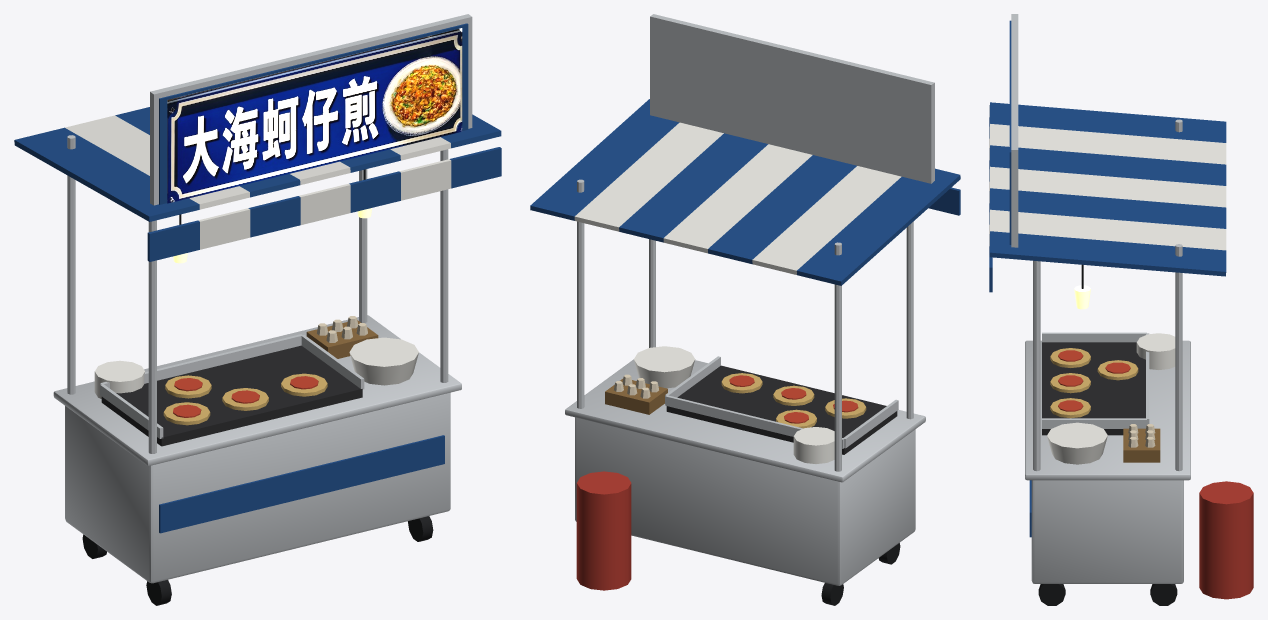
The model's file is night_market_stall_oyster.glb.
3 views of the same model, side by side, from view 1: azimuth 30°, elevation 25°; view 2: azimuth 150°, elevation 25°; view 3: azimuth 270°, elevation 25° (orthographic). The views are drawn at different scales.
Parts seen in each view (by area): view 1: body, sign; view 2: body; view 3: body.
Boxes of the visible parts, x1,y1,x2,y2 form: body: (14,14,501,605); sign: (167,28,462,203); body: (530,14,960,605); body: (989,14,1253,605).
Size of the model in its own units: 2.1 by 3.04 by 1.56.
Materials: 13 (1 with a texture image).
